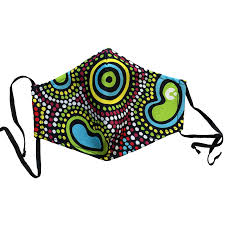FaceMask: (32, 48, 186, 161)
